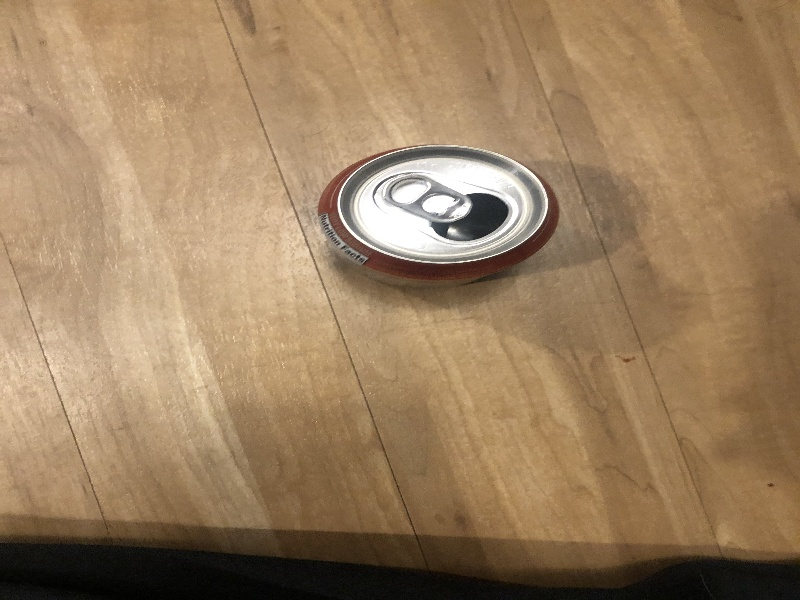metal: (319, 143, 569, 292)
